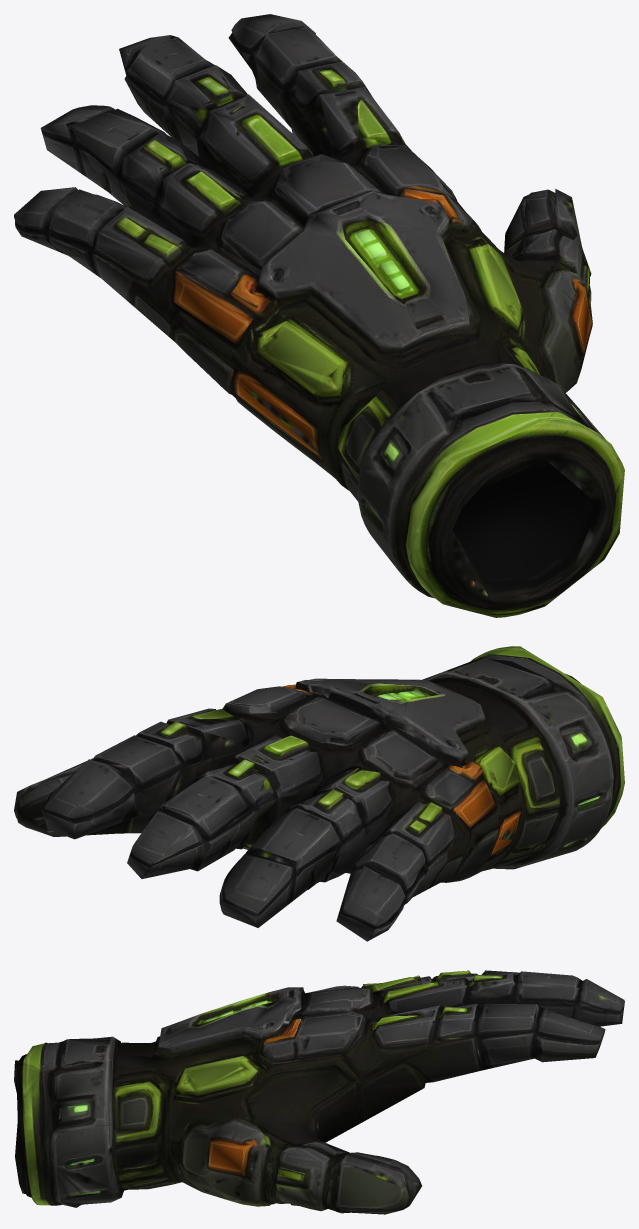
Rendered from left-hand.glb.
3 renders of one model, top to bottom at view 1: azimuth 30°, elevation 25°; view 2: azimuth 150°, elevation 25°; view 3: azimuth 270°, elevation 25°, orthographic. The views are drawn at different scales.
Visible parts, largest first — view 1: material; view 2: material; view 3: material.
Part boxes in pixels (x1=…): material: x1=14, y1=14, x2=624, y2=617; material: x1=14, y1=646, x2=624, y2=941; material: x1=14, y1=970, x2=624, y2=1214.
Size of the model in its own units: 0.7447 by 0.4667 by 1.13.
1 material, 1 textured.
